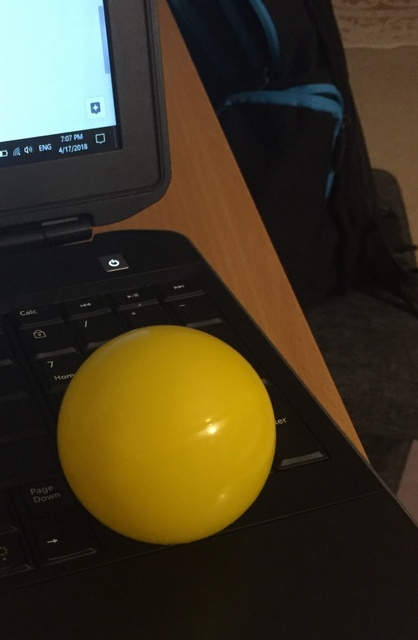ball: (55, 321, 274, 549)
